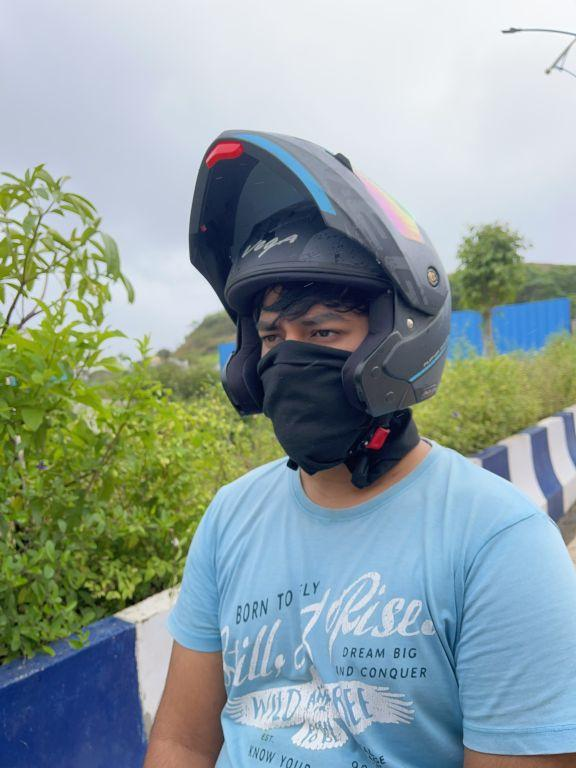helmet: (177, 122, 458, 466)
